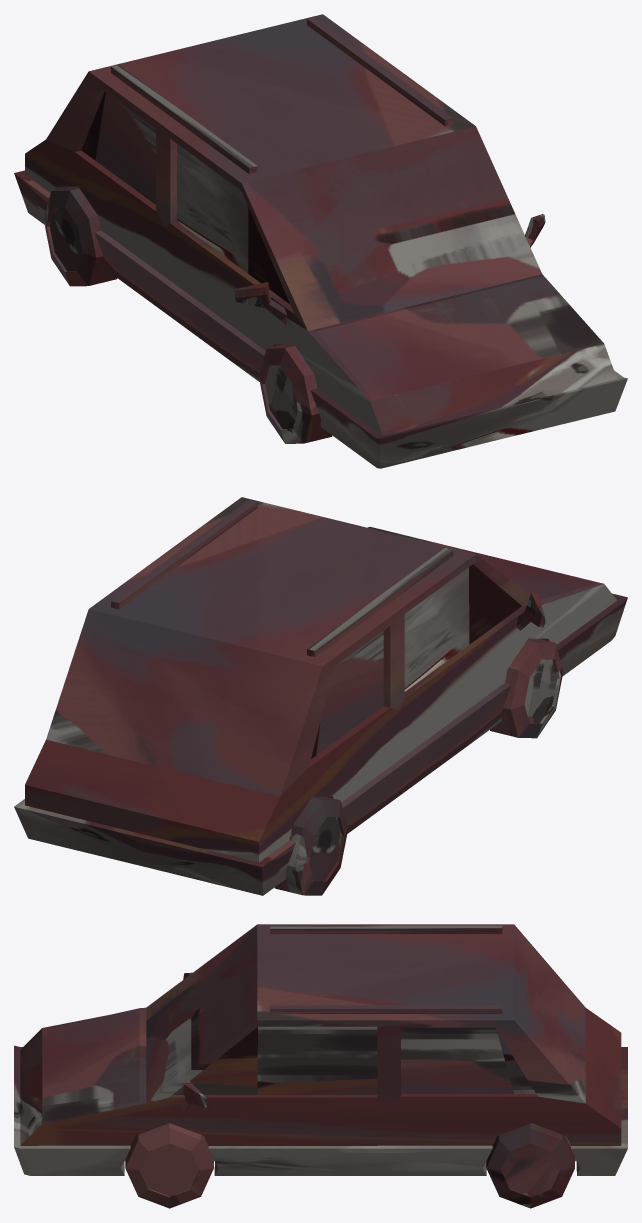
The model's file is car.fbx.
3 renders of one model, top to bottom at view 1: azimuth 30°, elevation 25°; view 2: azimuth 150°, elevation 25°; view 3: azimuth 270°, elevation 25°, orthographic. The views are drawn at different scales.
Visible parts, largest first — view 1: car; view 2: car; view 3: car.
Part boxes in pixels (x1,y1,x2,y2): car: [14, 14, 627, 468]; car: [14, 497, 627, 895]; car: [14, 924, 627, 1208].
Bounding box in the file's own units: 902 × 629 × 1842.
